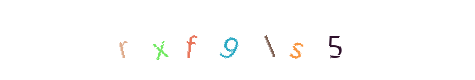5: (295, 0, 375, 80)
9: (197, 0, 277, 80)
F: (190, 0, 270, 80)
L: (204, 0, 284, 80)
R: (120, 0, 200, 80)
S: (251, 0, 331, 80)
X: (162, 0, 242, 80)
